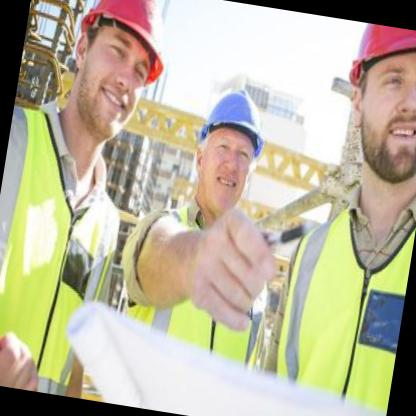helmet: (46, 0, 187, 155), (177, 62, 282, 226), (320, 19, 416, 193)
